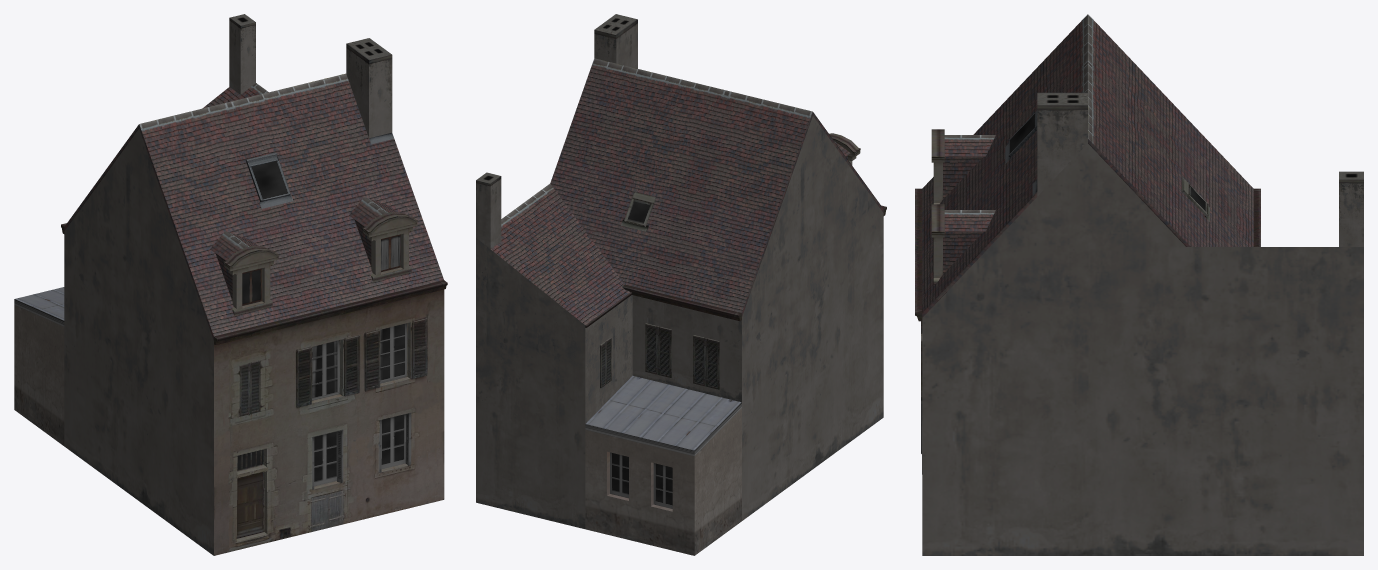
Rendered from dijon_house_1_france.glb.
The picture shows the model from 3 angles, left to right: view 1: azimuth 30°, elevation 25°; view 2: azimuth 150°, elevation 25°; view 3: azimuth 270°, elevation 25°; orthographic projection. The views are drawn at different scales.
Visible parts, largest first — view 1: 3_3_0; view 2: 3_3_0; view 3: 3_3_0.
Part boxes in pixels (x1,y1,x2,y2): 3_3_0: (14, 14, 447, 555); 3_3_0: (476, 14, 886, 555); 3_3_0: (915, 14, 1363, 555).
Bounding box in the file's own units: 8 × 13.51 × 12.2.
1 material, 1 textured.
